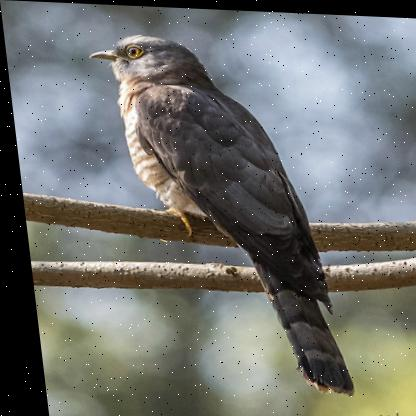Burung: (83, 31, 344, 394)
